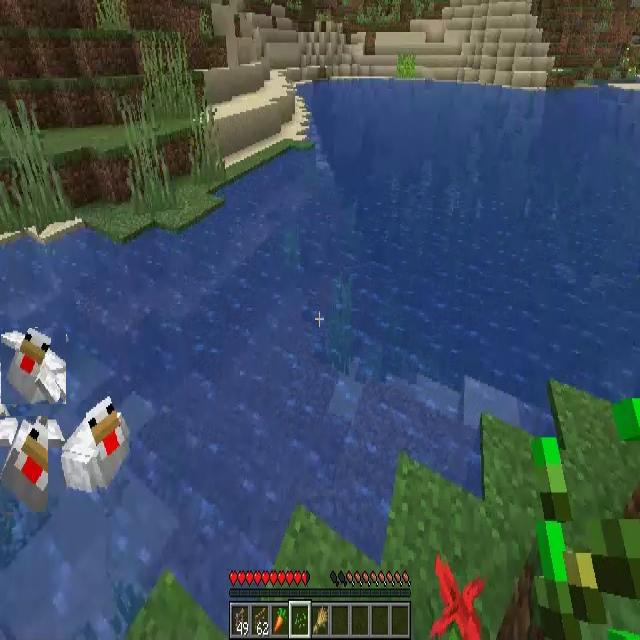duck: (58, 396, 128, 491), (1, 328, 66, 404), (0, 416, 48, 512)
